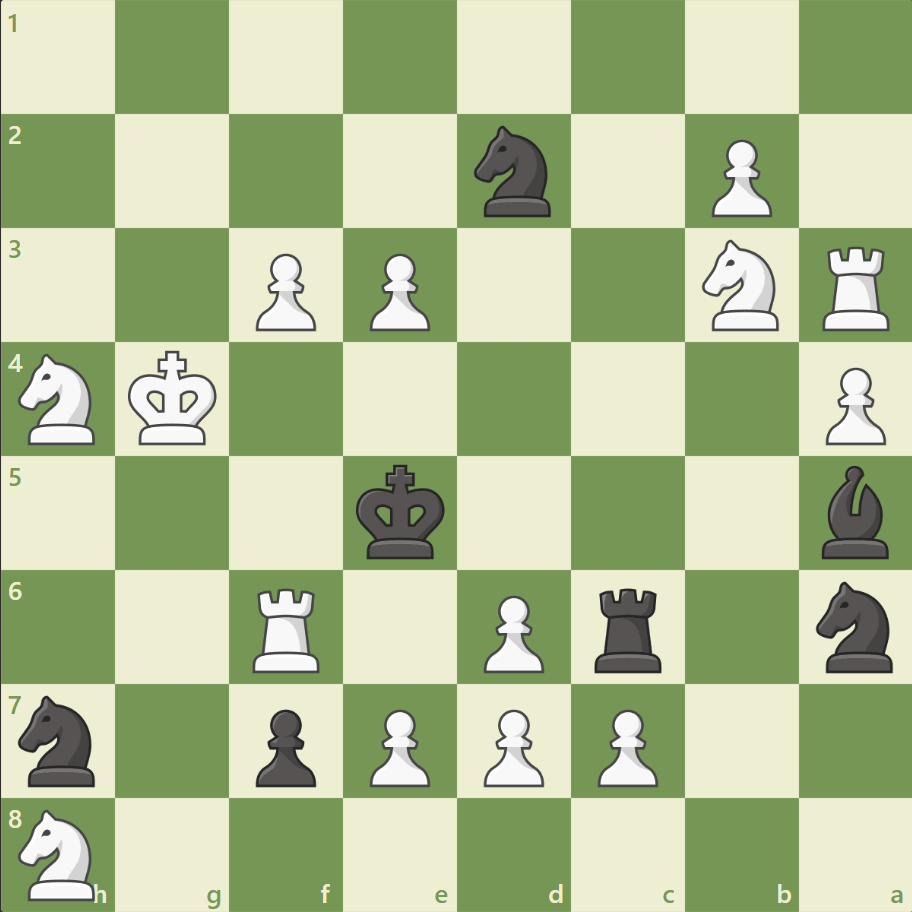K: (124, 344, 224, 452)
N: (692, 234, 789, 337), (11, 802, 108, 904), (11, 348, 108, 450)
P: (474, 700, 549, 791), (474, 586, 549, 677), (247, 246, 322, 337), (701, 132, 776, 223), (588, 700, 662, 791), (361, 700, 435, 791), (815, 359, 889, 450), (361, 246, 435, 337)
R: (246, 579, 329, 676), (814, 239, 897, 336)
b: (812, 460, 896, 563)
k: (351, 458, 451, 566)
n: (11, 688, 108, 791), (806, 575, 903, 677), (465, 121, 562, 223)
p: (247, 700, 322, 791)
r: (587, 579, 670, 676)
